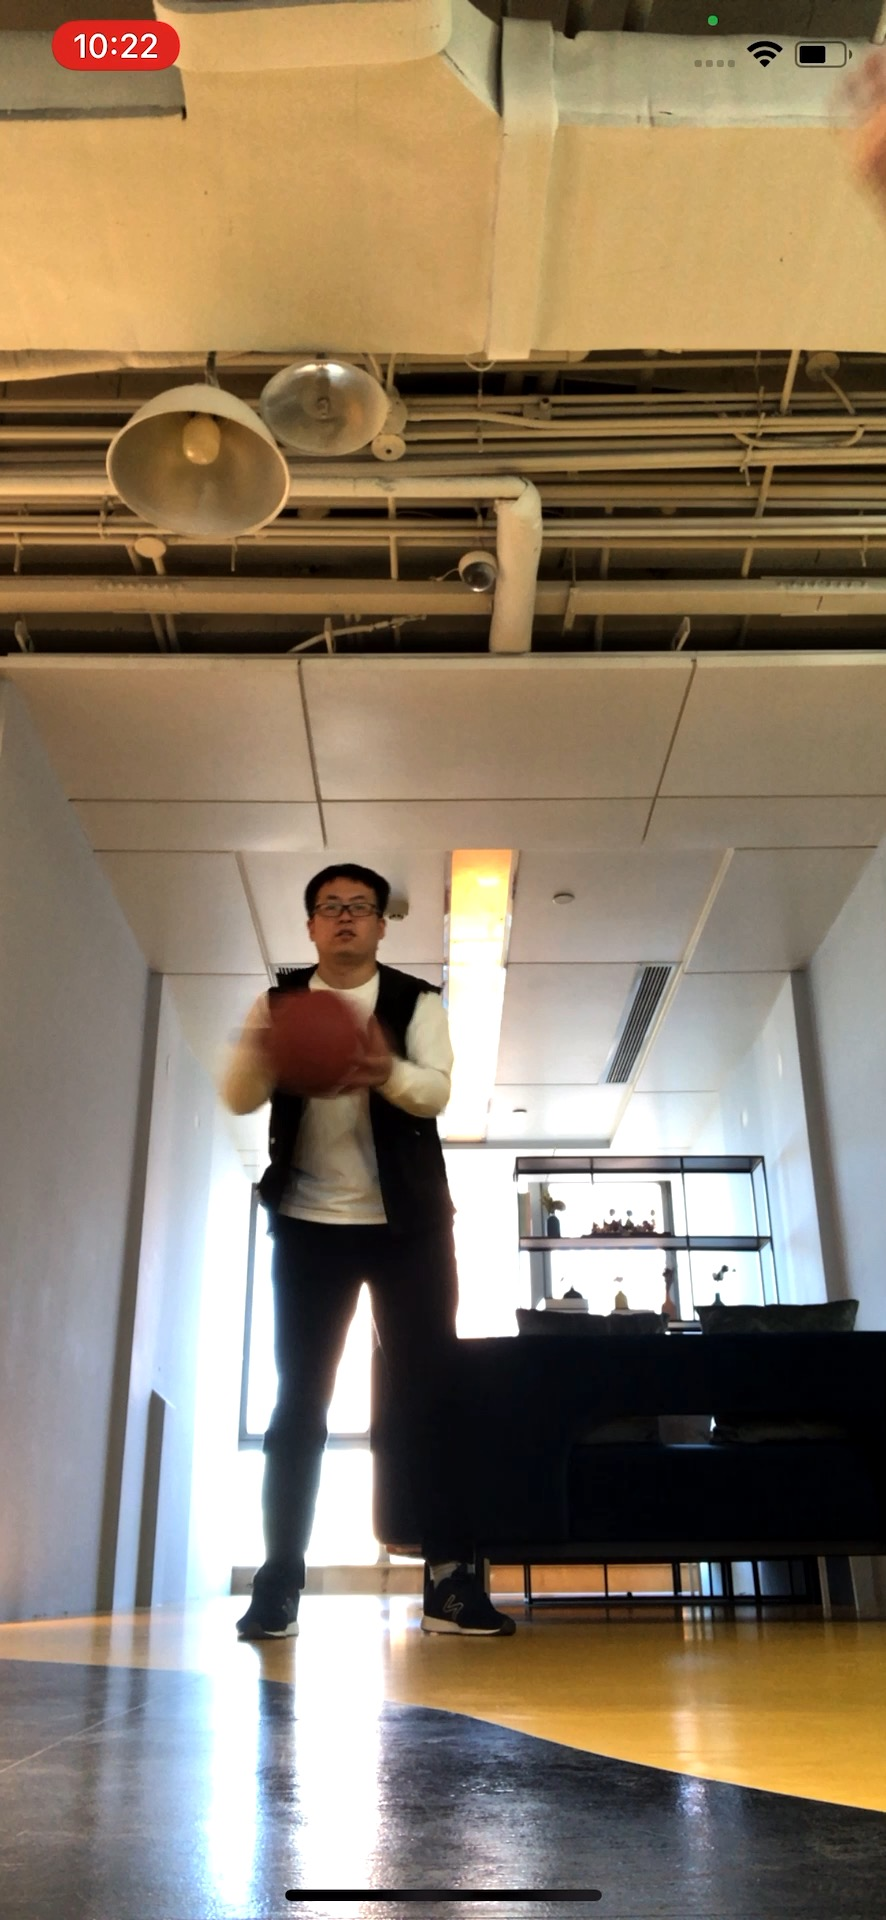ball: (259, 989, 372, 1104)
